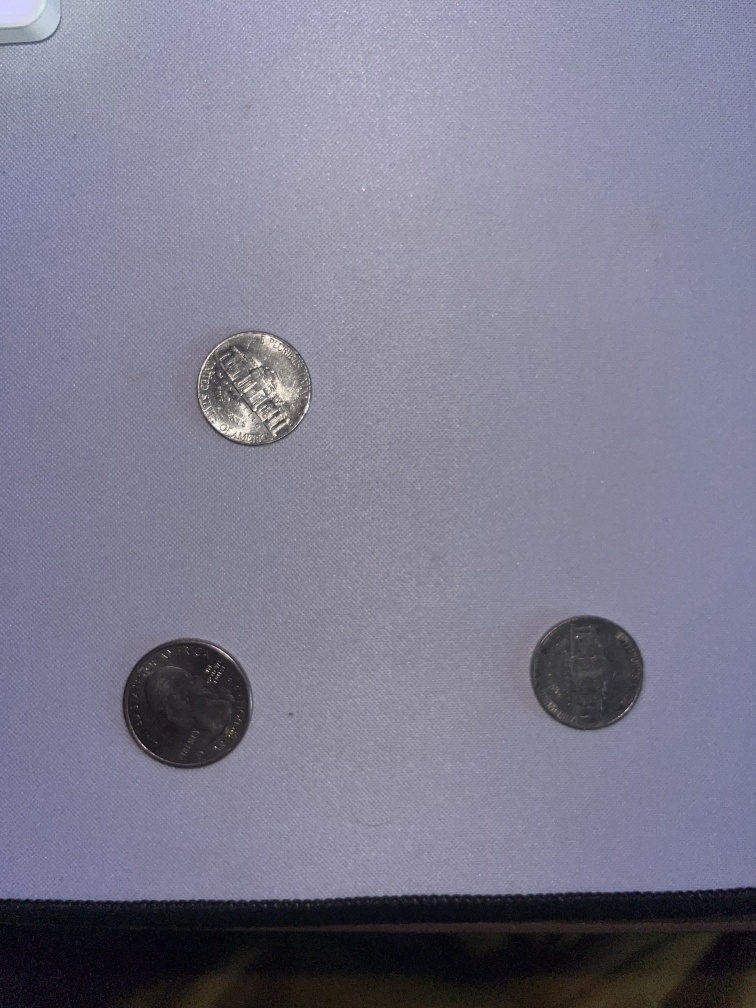nickel: (186, 325, 320, 458), (522, 611, 651, 739)
quarter: (115, 634, 261, 779)
